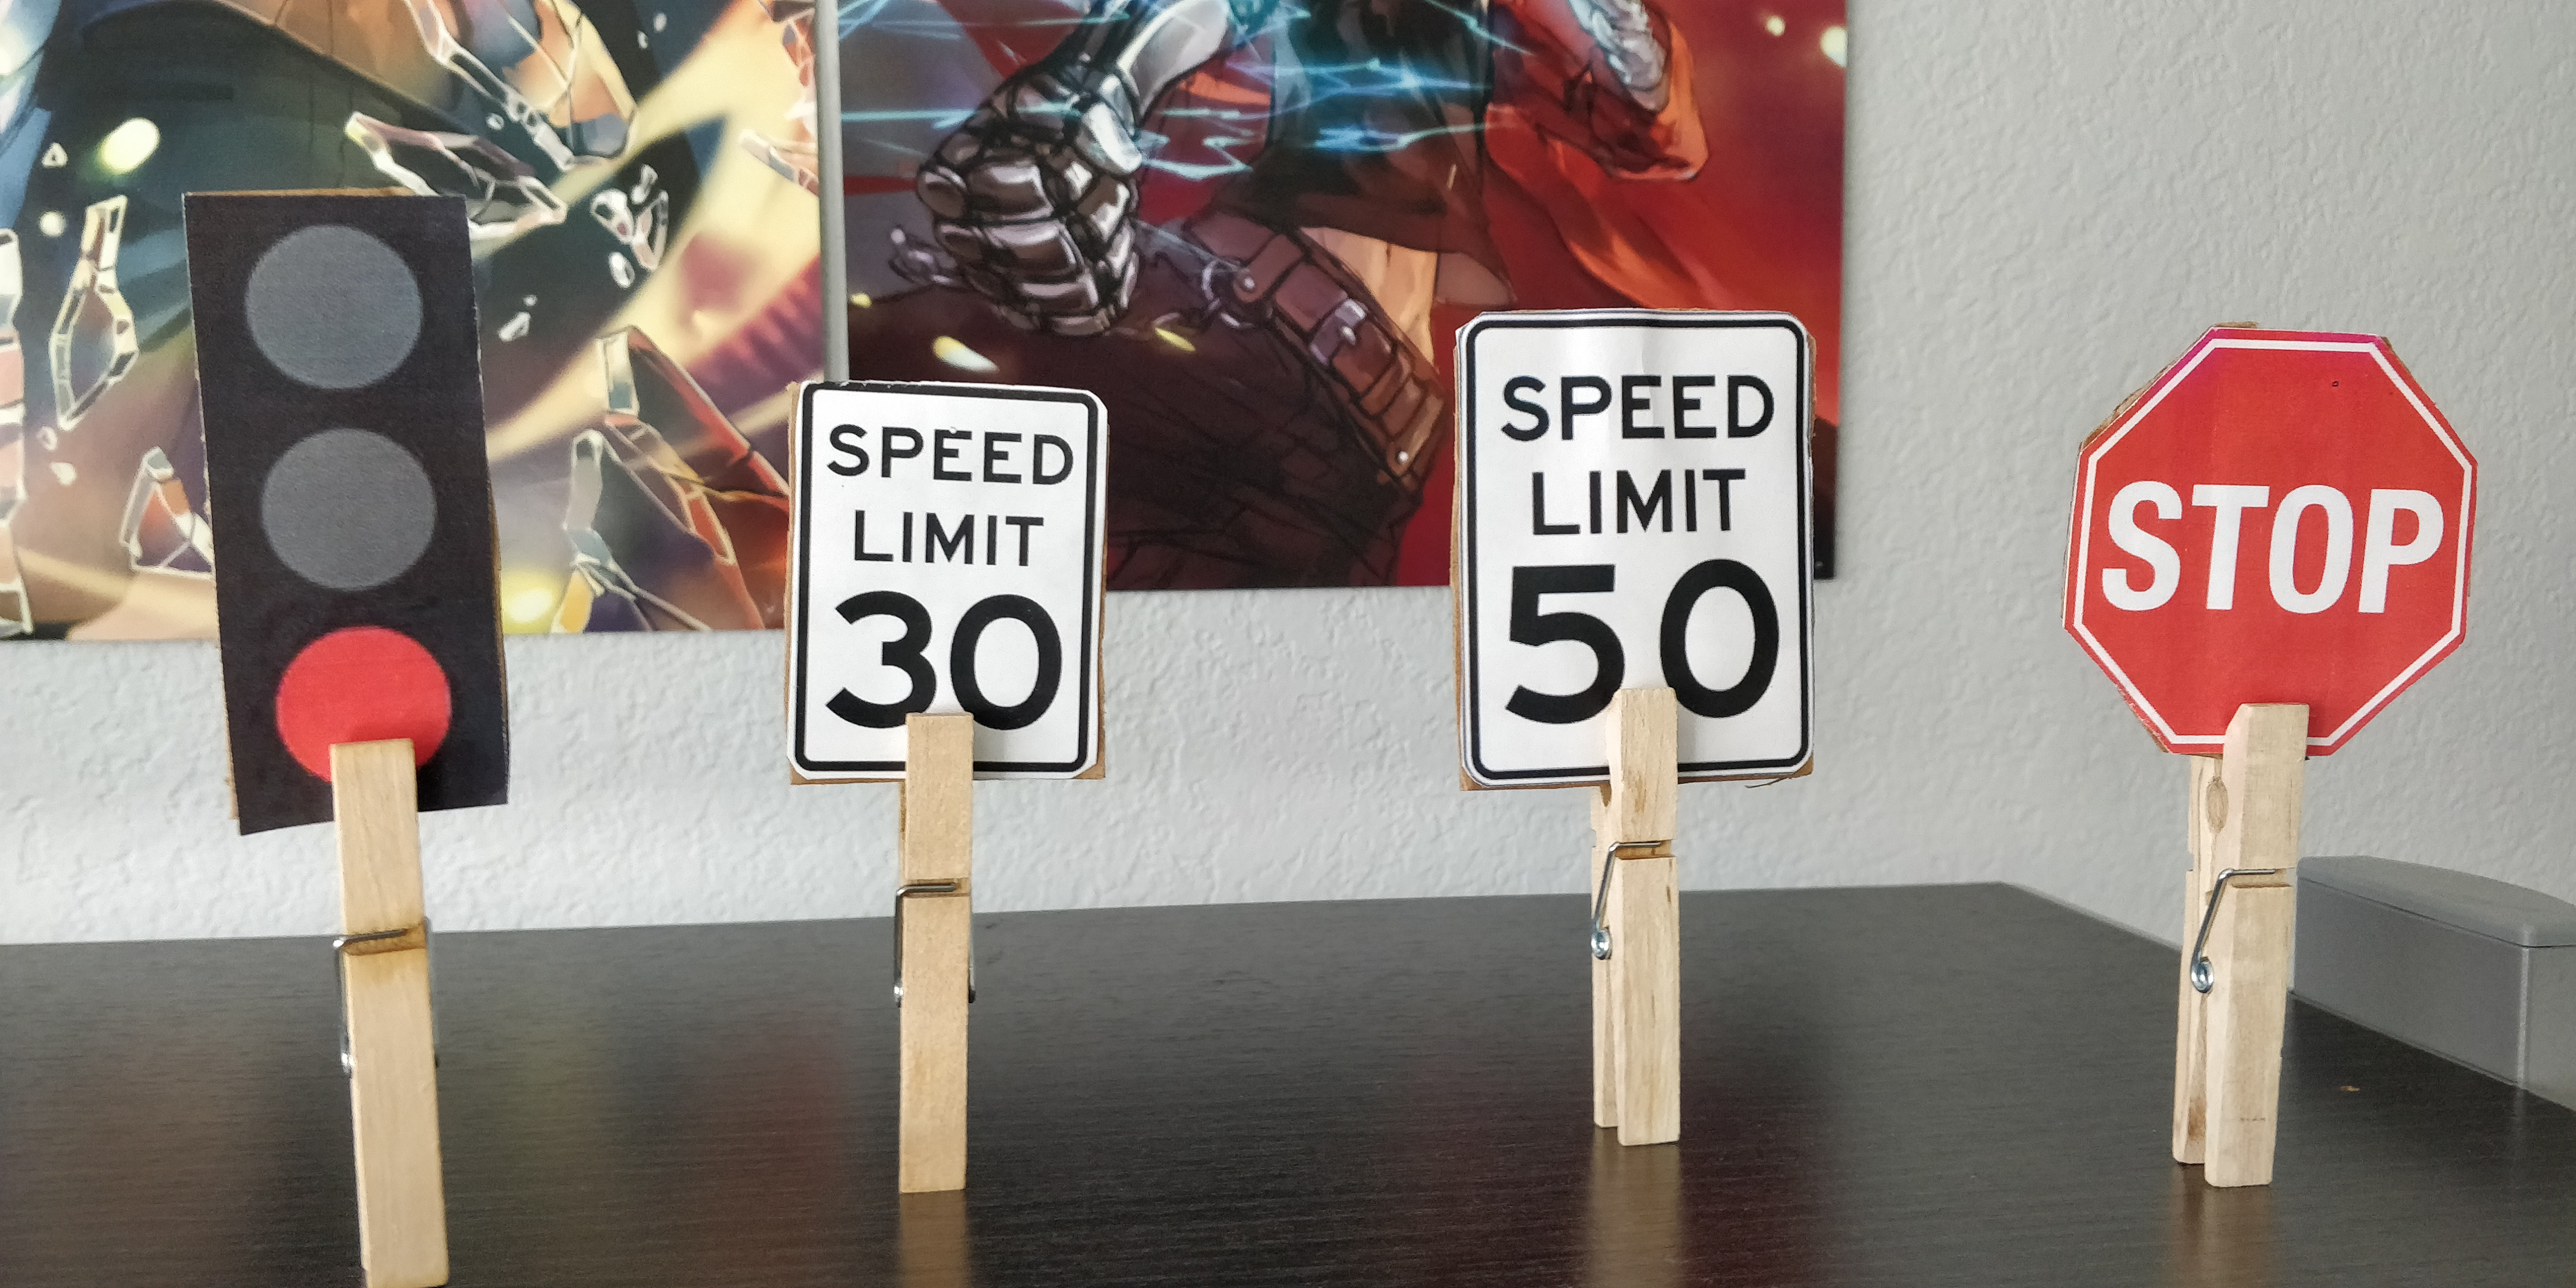Speed Limit 30: (794, 378, 1111, 784)
Speed Limit 50: (1454, 309, 1815, 789)
Stop Sign: (2073, 322, 2474, 757)
red light: (181, 195, 513, 833)
